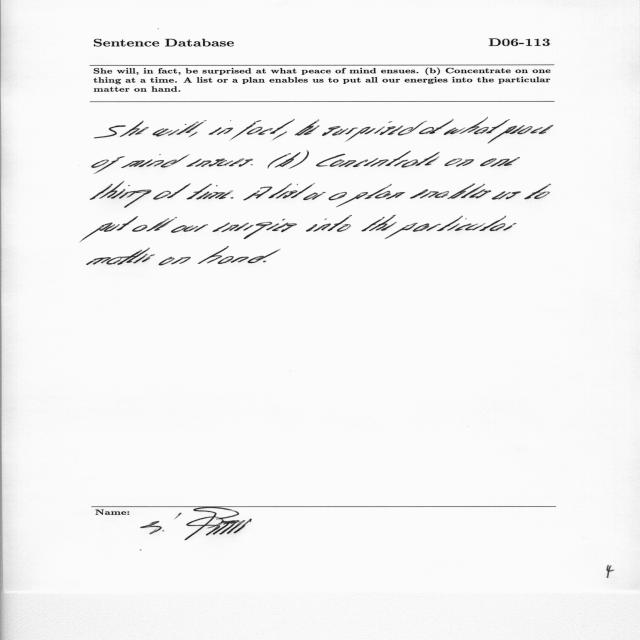word: (385, 216, 517, 239), (322, 121, 427, 142), (316, 151, 440, 168), (212, 219, 297, 239), (90, 181, 152, 208), (336, 184, 405, 207), (198, 246, 280, 264), (81, 216, 138, 241), (230, 119, 295, 140), (410, 184, 491, 199), (444, 117, 510, 135), (488, 125, 554, 143), (87, 248, 155, 265), (94, 121, 149, 139), (121, 154, 190, 168), (153, 120, 207, 136), (306, 215, 352, 232), (268, 183, 315, 199), (132, 217, 177, 232), (153, 183, 191, 200), (275, 151, 309, 169), (92, 156, 125, 174), (361, 215, 397, 231), (419, 119, 454, 134), (187, 158, 245, 167), (196, 185, 233, 199), (244, 187, 273, 201), (525, 184, 552, 199), (295, 120, 320, 136), (480, 157, 520, 167), (187, 184, 212, 200), (267, 153, 291, 169), (209, 120, 233, 135), (171, 224, 208, 233), (445, 158, 475, 167), (158, 257, 191, 265), (492, 191, 521, 200), (303, 192, 326, 200), (329, 192, 347, 200), (273, 131, 287, 140), (239, 159, 253, 167), (189, 132, 198, 138), (263, 261, 267, 263), (231, 197, 234, 199), (251, 164, 253, 165)
